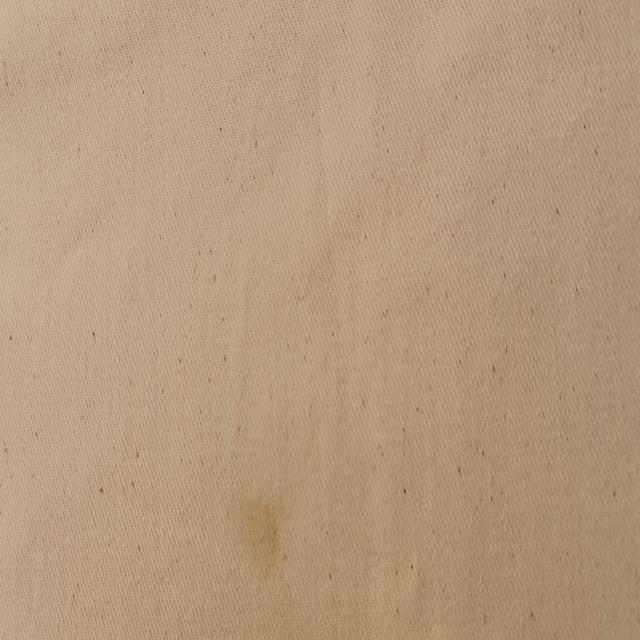taaaches: (228, 472, 288, 590)
